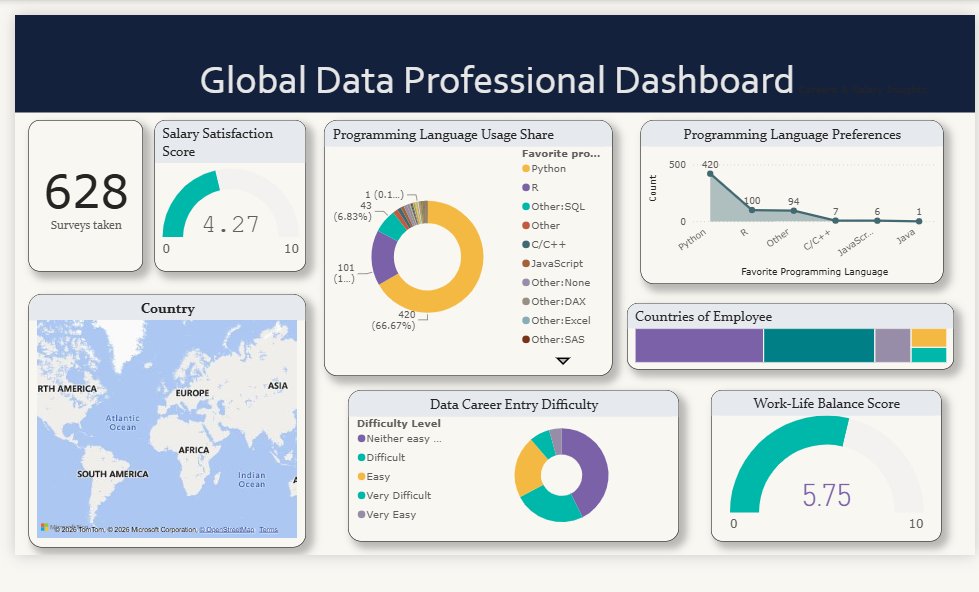

What the dashboard file says about the page in this screenshot:
{"tool":"powerbi","page":{"name":"Page 1","canvas":[1280,720],"ordinal":0},"visuals":[{"type":"textbox","box":[0,0,1280.3,130],"z":0},{"type":"card","fields":{"Values":["Count(Data Professional Survey.Unique ID)"]},"box":[1100,514,152,186],"z":1000},{"type":"gauge","title":"Salary Satisfaction Score","fields":{"MaxValue":["Max(Data Professional Survey.Q6 - How Happy are you in your Current Position with the following? (Salary))"],"MinValue":["Min(Data Professional Survey.Q6 - How Happy are you in your Current Position with the following? (Salary))"],"Y":["Avg(Data Professional Survey.Q6 - How Happy are you in your Current Position with the following? (Salary))"]},"box":[884,498,202,202],"z":2000},{"type":"gauge","title":"Work-Life Balance Score","fields":{"MaxValue":["Max(Data Professional Survey.Q6 - How Happy are you in your Current Position with the following? (Work/Life Balance))"],"MinValue":["Min(Data Professional Survey.Q6 - How Happy are you in your Current Position with the following? (Work/Life Balance))"],"Y":["Avg(Data Professional Survey.Q6 - How Happy are you in your Current Position with the following? (Work/Life Balance))"]},"box":[18,148,370,202],"z":3000},{"type":"donutChart","title":"Data Career Entry Difficulty","fields":{"Category":["Data Professional Survey.Q7 - How difficult was it for you to break into Data?"],"Y":["CountNonNull(Data Professional Survey.Q9 - Male/Female?)"]},"box":[414,498,452,202],"z":4000},{"type":"treemap","title":"Countries of Employee","fields":{"Group":["Data Professional Survey.Q11 - Which Country do you live in?.1"],"Values":["CountNonNull(Data Professional Survey.Q11 - Which Country do you live in?.1)"]},"box":[817,383,435.8,88.7],"z":5000},{"type":"stackedAreaChart","title":"Programming Language Preferences","fields":{"Category":["Data Professional Survey.Q5 - Favorite Programming Language.1"],"Y":["CountNonNull(Data Professional Survey.Q9 - Male/Female?)"]},"box":[834,139.6,403.8,218.9],"z":6000},{"type":"donutChart","title":"Programming Language Usage Share","fields":{"Category":["Data Professional Survey (2).Q5 - Favorite Programming Language"],"Y":["CountNonNull(Data Professional Survey (2).Time Spent)"]},"box":[411.3,139.6,384.9,341.5],"z":7000},{"type":"map","title":"Country","fields":{"Category":["Data Professional Survey (2).City"]},"box":[18.9,371.7,369.8,337.7],"z":8000}]}

Visuals, with their boxes in screenshot pixels (x1, y1, x2, y2):
textbox: {"left": 10, "top": 13, "right": 976, "bottom": 111}
card - Count(Data Professional Survey.Unique ID): {"left": 840, "top": 400, "right": 955, "bottom": 541}
"Salary Satisfaction Score" gauge: {"left": 677, "top": 388, "right": 829, "bottom": 541}
"Work-Life Balance Score" gauge: {"left": 24, "top": 124, "right": 303, "bottom": 277}
"Data Career Entry Difficulty" donutChart: {"left": 322, "top": 388, "right": 663, "bottom": 541}
"Countries of Employee" treemap: {"left": 626, "top": 302, "right": 955, "bottom": 369}
"Programming Language Preferences" stackedAreaChart: {"left": 639, "top": 118, "right": 944, "bottom": 283}
"Programming Language Usage Share" donutChart: {"left": 320, "top": 118, "right": 611, "bottom": 376}
"Country" map: {"left": 24, "top": 293, "right": 303, "bottom": 548}
